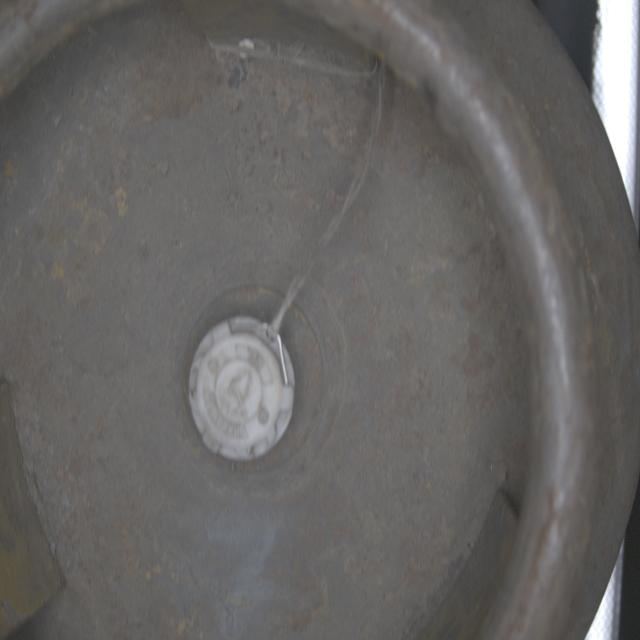Cap: (187, 315, 299, 466)
